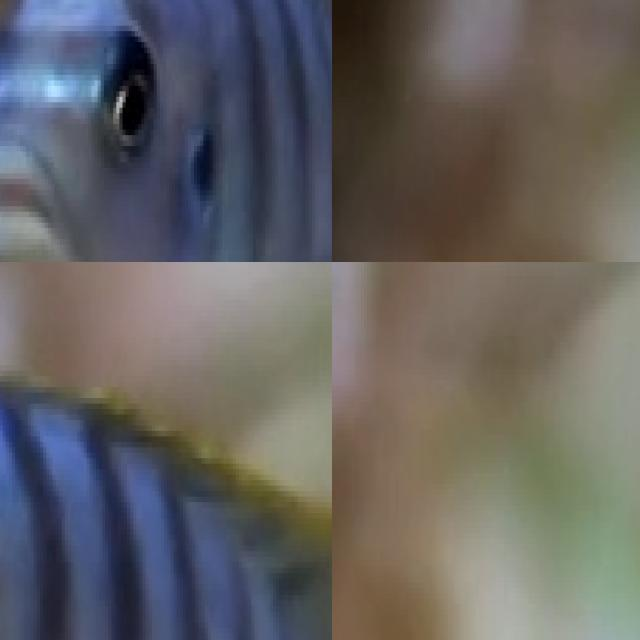fish: (0, 376, 332, 640), (0, 0, 332, 262)
